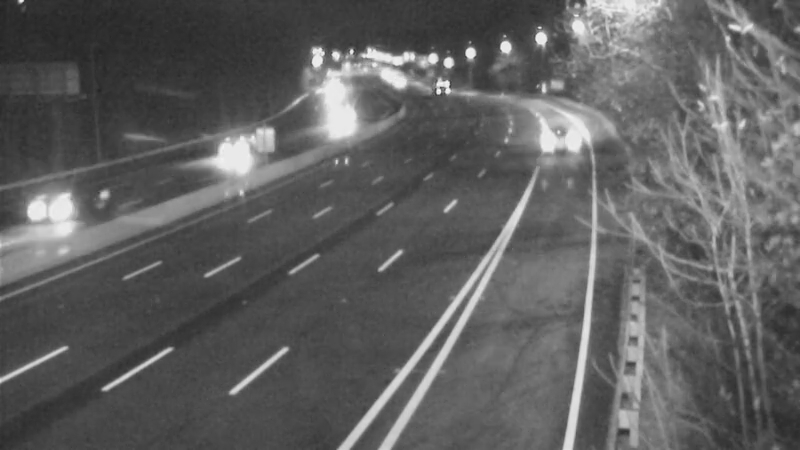vehicle: (21, 170, 101, 250), (197, 115, 277, 195), (410, 63, 460, 113), (372, 58, 422, 108), (526, 111, 576, 161), (313, 91, 363, 141)
